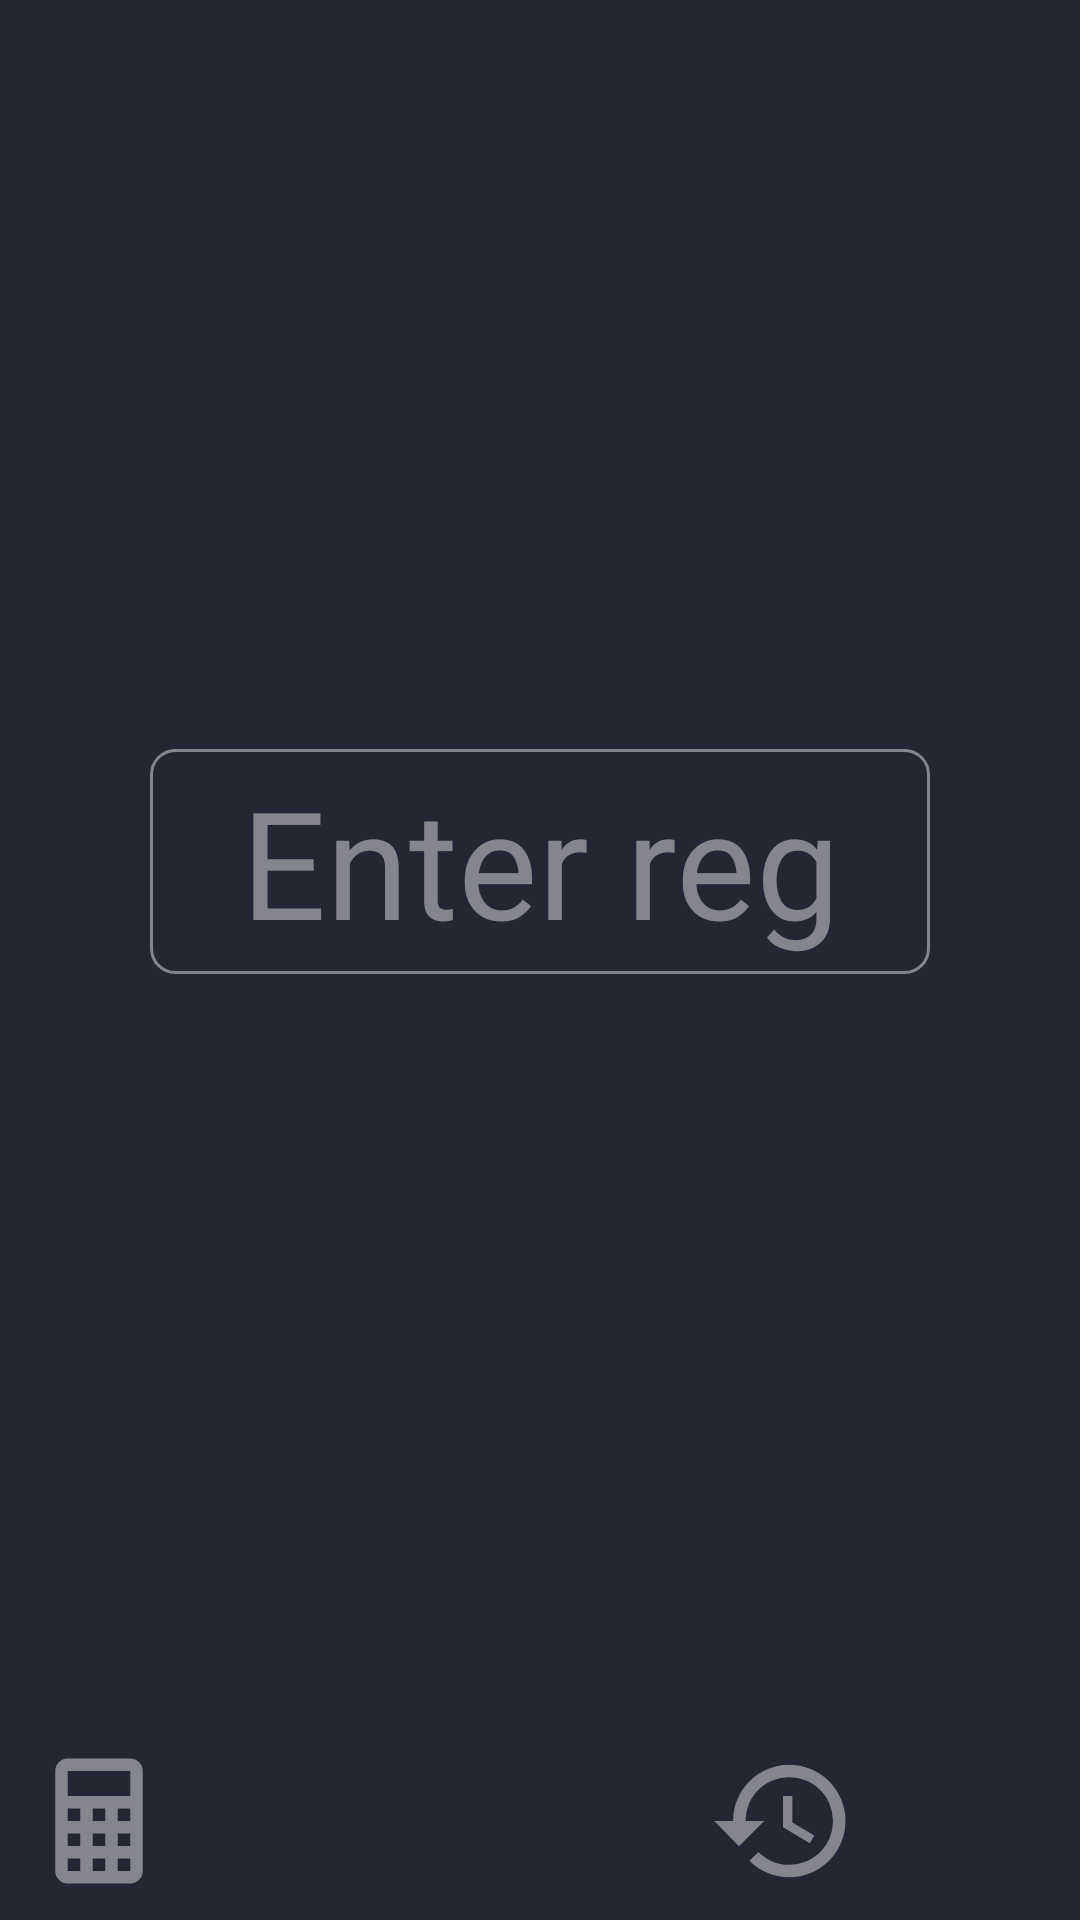

Named icons in this screenshot (1080px×1920px) and their centers, point (x, y):
calculator: point (99, 1821)
history: point (780, 1821)
